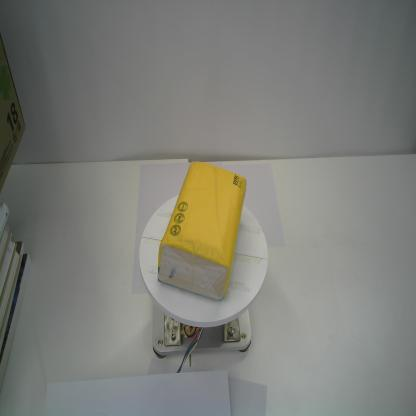Tissue: (156, 159, 248, 302)
